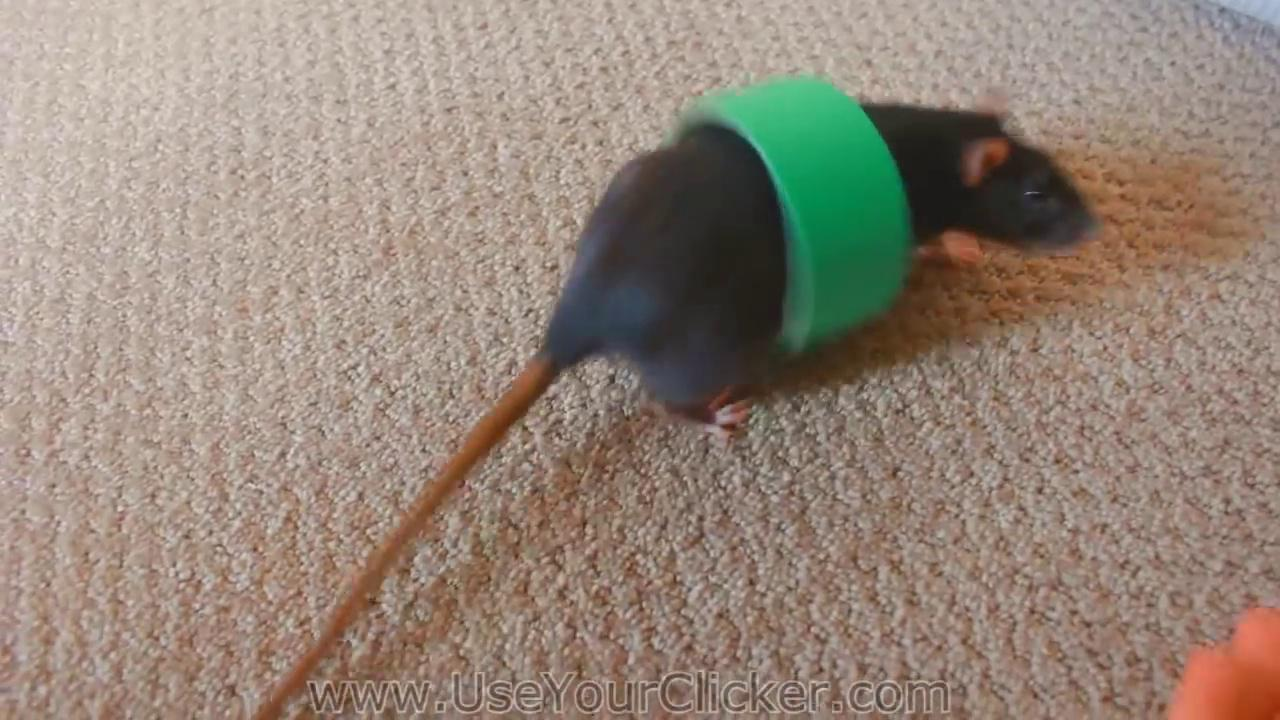rat: (251, 102, 1088, 720)
